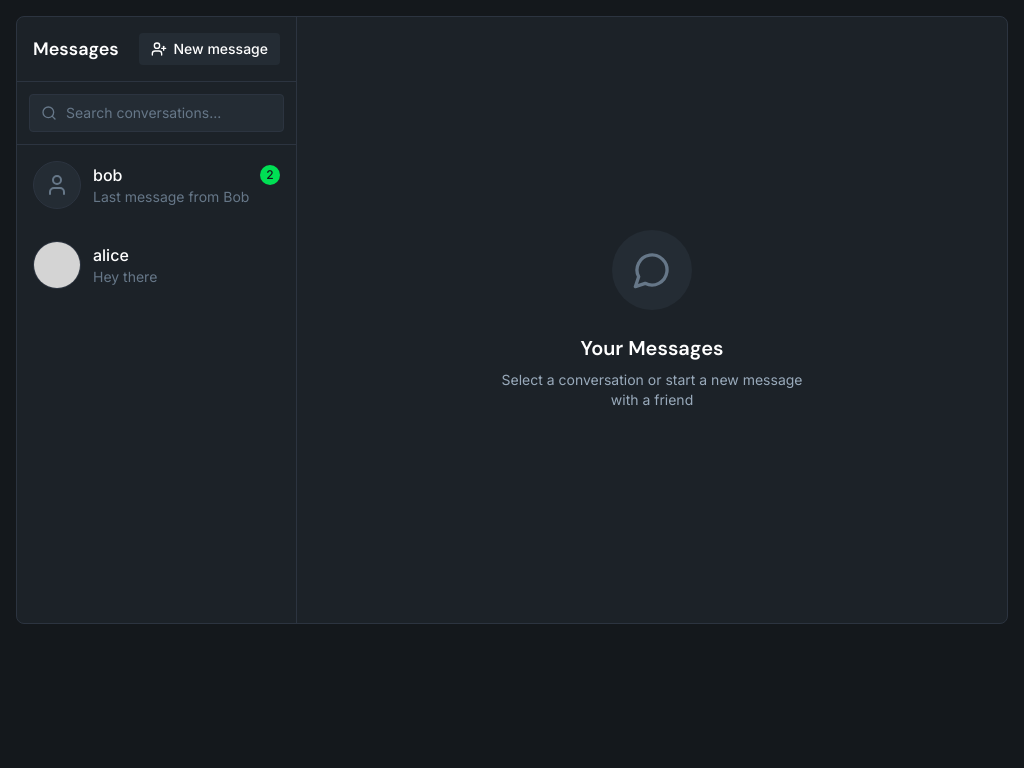
Test: DiscussionPage › affiche un message quand la conversation est vide
This screenshot has width=1024, height=768.
Click the button "bob 2 Last message from Bob" at (156, 185), box [17, 145, 296, 225]
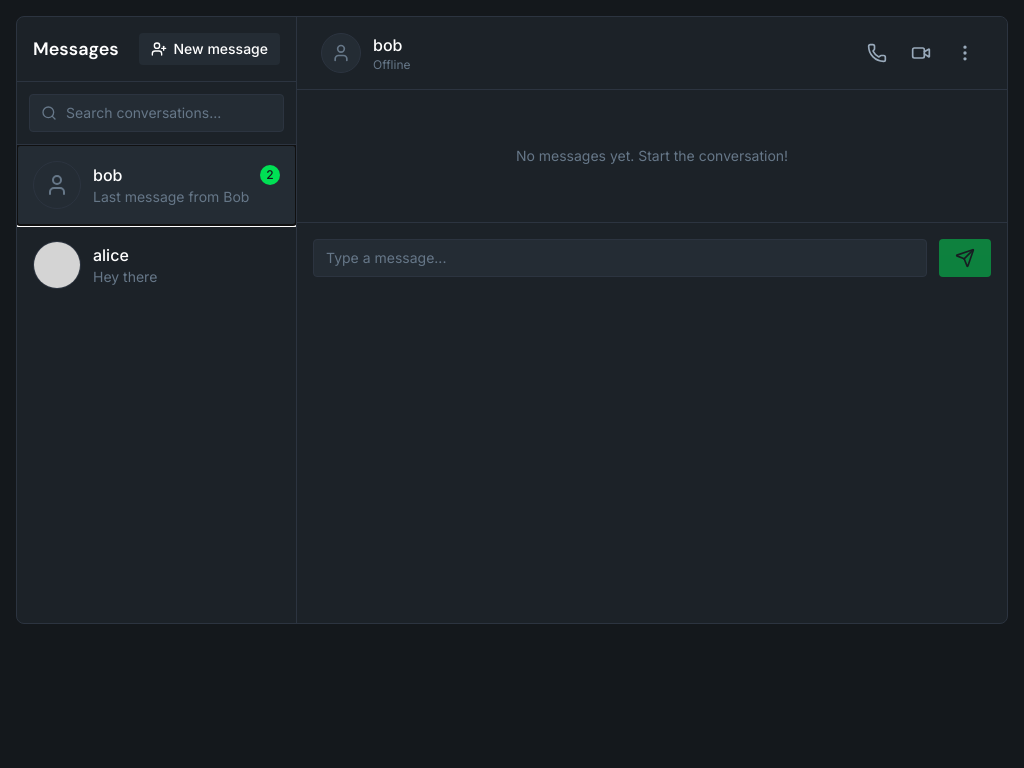
Now the text "No messages yet. Start the conversation!" is shown, box [516, 147, 788, 164]
